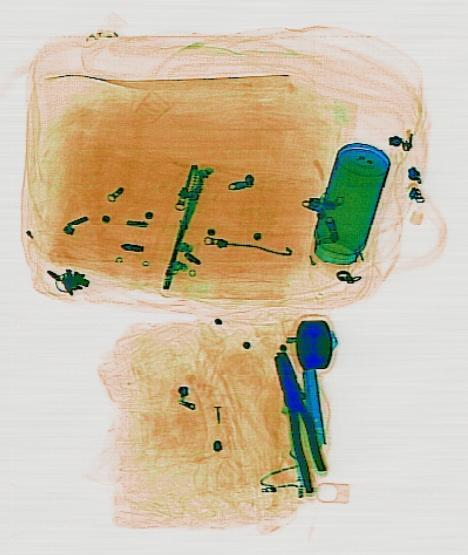Pliers: (269, 348, 328, 492)
